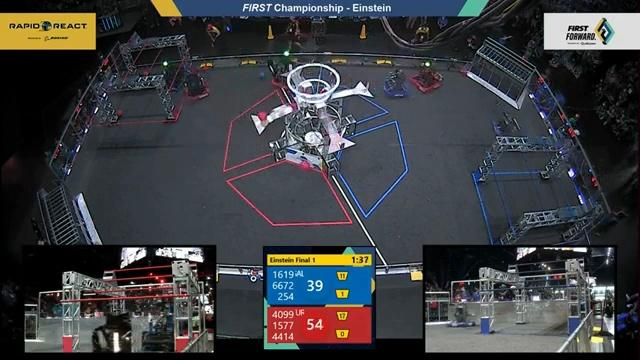robot: (267, 49, 302, 90), (410, 59, 445, 96), (381, 64, 412, 100), (157, 56, 186, 93), (491, 111, 527, 140), (181, 70, 211, 103)
